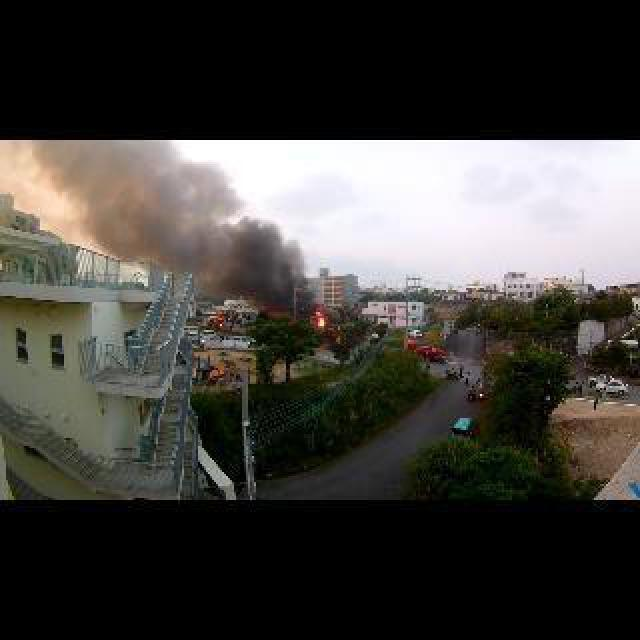Fire: (314, 310, 326, 326)
Smoke: (24, 142, 242, 274), (232, 214, 312, 330)
